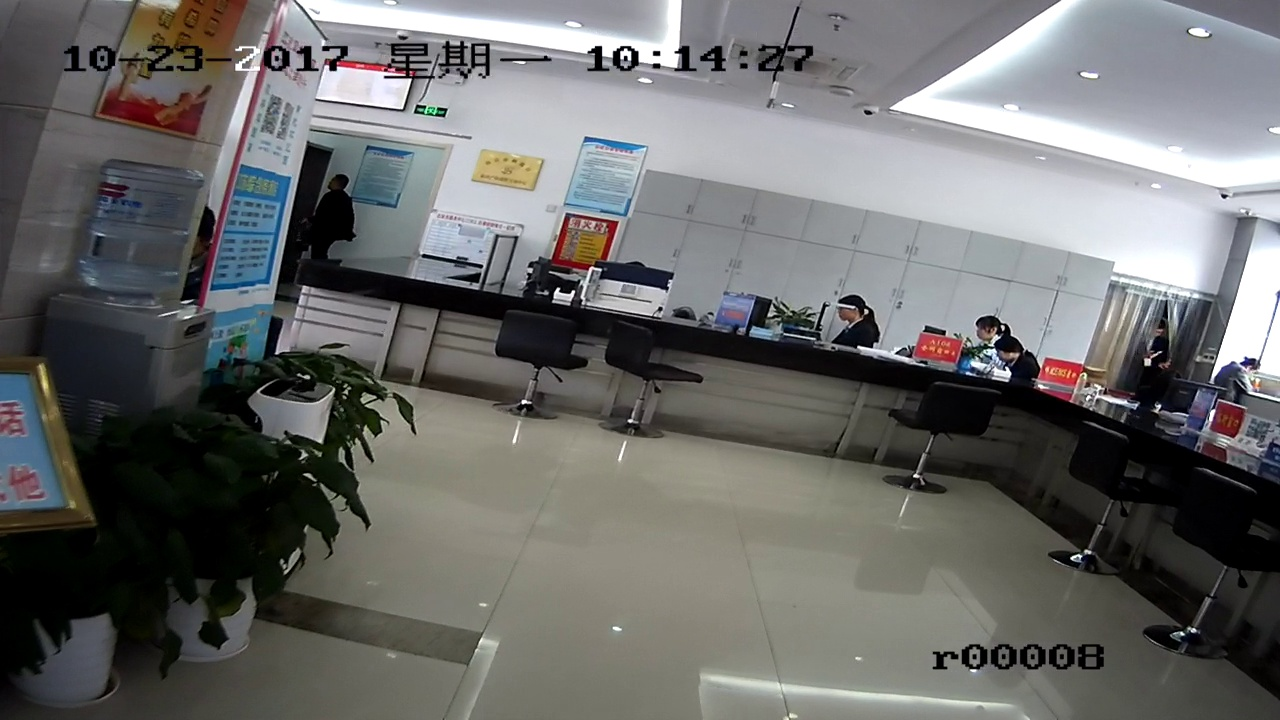billboard: (570, 147, 644, 222)
chair: (1177, 467, 1280, 699), (489, 307, 596, 438), (892, 383, 1004, 508), (1074, 430, 1150, 590), (606, 319, 684, 453)
person: (830, 297, 901, 362), (324, 178, 362, 260), (1002, 340, 1035, 390), (966, 318, 1008, 350)
pot: (163, 433, 275, 675)
